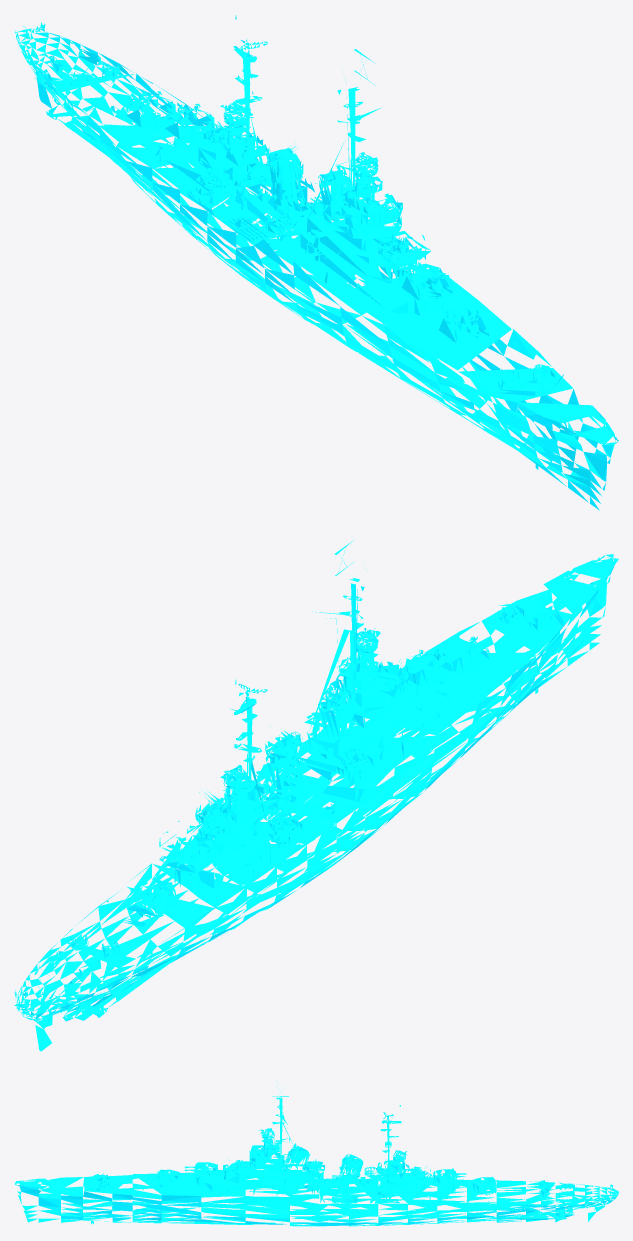
The model's file is PRSC610.glb.
3 views of the same model, one above another, from view 1: azimuth 30°, elevation 25°; view 2: azimuth 150°, elevation 25°; view 3: azimuth 270°, elevation 25° (orthographic). The views are drawn at different scales.
Parts seen in each view (by area): view 1: hull_mid, hull_stern, hull_bow, main_battery, aa_mount, superstructure, torpedo; view 2: hull_mid, hull_stern, hull_bow, main_battery, aa_mount, superstructure, torpedo; view 3: hull_mid, hull_stern, hull_bow, main_battery, aa_mount, superstructure, torpedo.
Boxes of the visible parts, <box> form: hull_mid: <box>152,15,537,434</box>; hull_stern: <box>14,22,235,211</box>; hull_bow: <box>458,351,618,510</box>; main_battery: <box>126,91,489,343</box>; aa_mount: <box>69,61,550,388</box>; superstructure: <box>220,39,378,178</box>; torpedo: <box>224,196,342,241</box>; hull_mid: <box>152,577,536,934</box>; hull_stern: <box>14,863,246,1051</box>; hull_bow: <box>457,554,618,717</box>; main_battery: <box>126,636,489,916</box>; aa_mount: <box>69,603,550,958</box>; superstructure: <box>220,539,380,791</box>; torpedo: <box>224,782,355,826</box>; hull_mid: <box>132,1097,455,1226</box>; hull_stern: <box>437,1179,618,1223</box>; hull_bow: <box>15,1174,132,1224</box>; main_battery: <box>147,1162,496,1193</box>; aa_mount: <box>98,1159,549,1196</box>; superstructure: <box>258,1082,406,1162</box>; torpedo: <box>332,1173,357,1203</box>.
Bounding box in the file's own units: 1.24 × 3.08 × 11.91.
